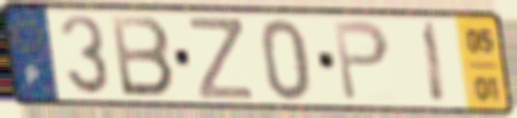0: (258, 16, 314, 104)
3: (58, 13, 112, 98)
B: (107, 13, 178, 100)
I: (420, 18, 450, 107)
P: (330, 18, 393, 104)
Z: (185, 14, 256, 102)
